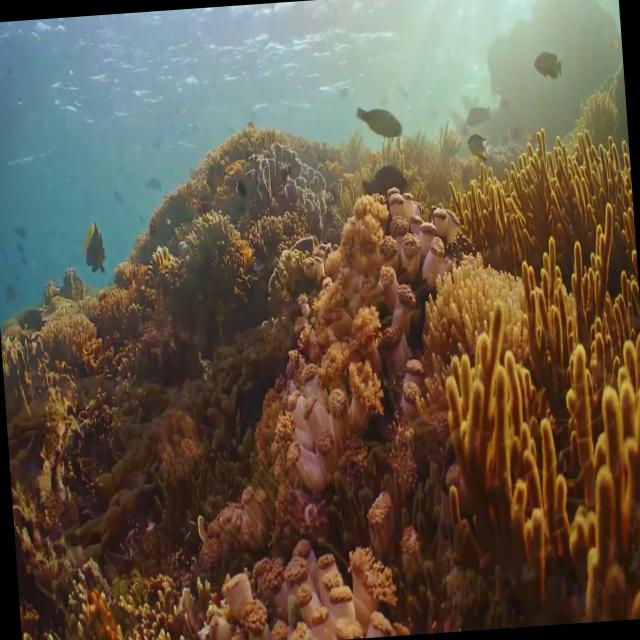fish: (354, 100, 402, 144), (532, 46, 562, 83)
